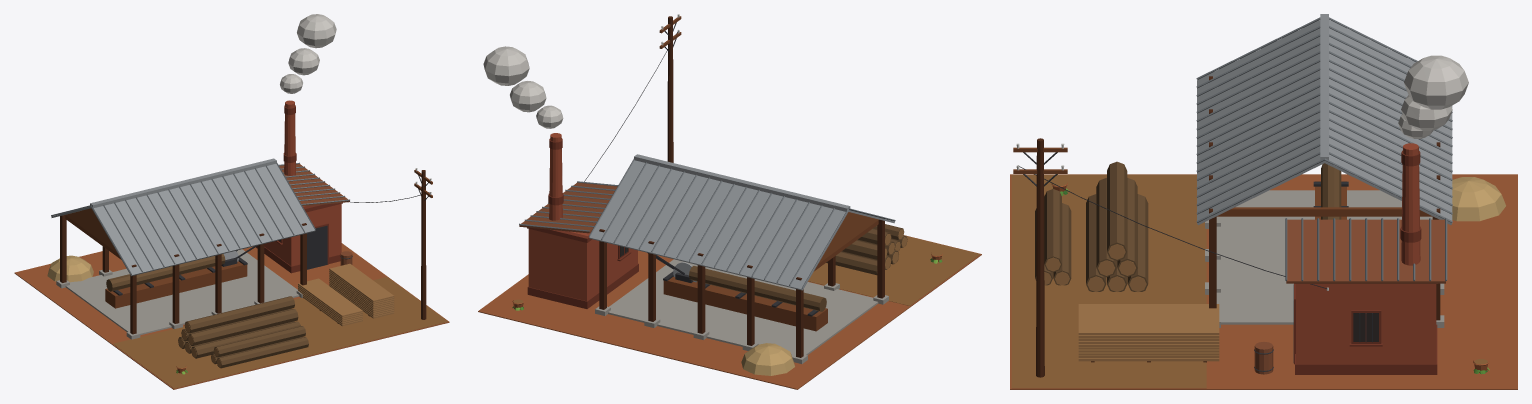
File: factory_2.glb
3 renders of one model, left to right at view 1: azimuth 30°, elevation 25°; view 2: azimuth 150°, elevation 25°; view 3: azimuth 270°, elevation 25°, orthographic. The views are drawn at different scales.
Visible parts, largest first — view 1: body; view 2: body; view 3: body, windows.
Boxes of the visible parts, <box> form: body: <box>14,14,449,389</box>; body: <box>478,14,981,389</box>; body: <box>1010,14,1517,389</box>; windows: <box>1353,313,1378,341</box>.
Size of the model in its own units: 16.92 by 11.78 by 15.9.
